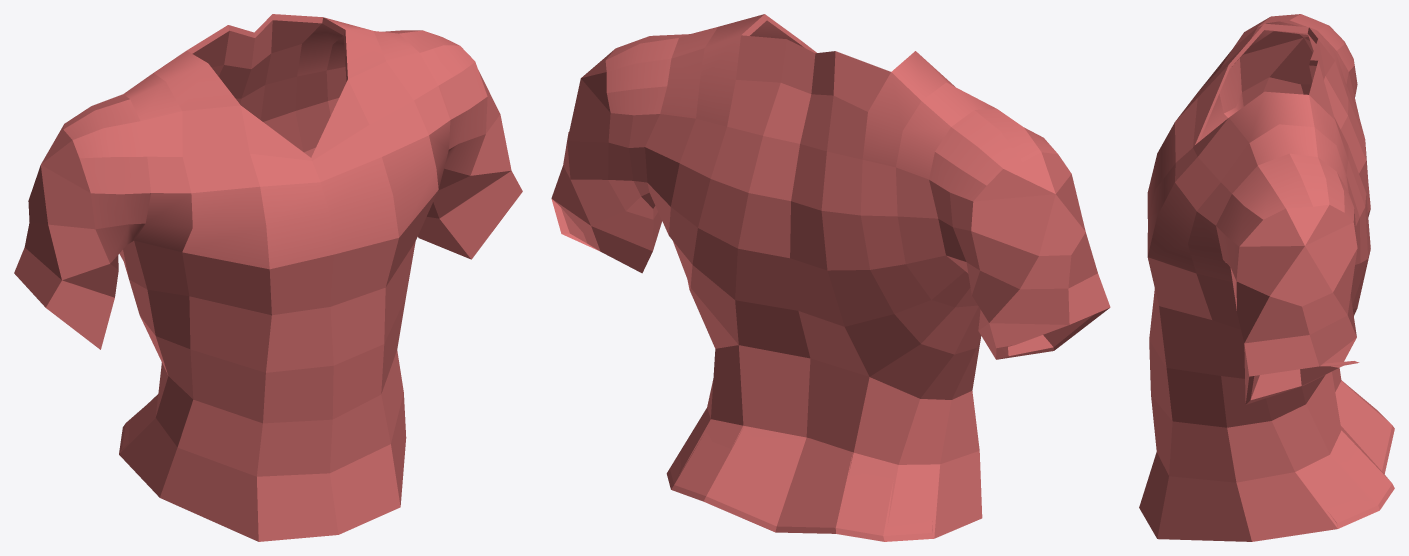
Rendered from shirt.fbx.
3 renders of one model, left to right at view 1: azimuth 30°, elevation 25°; view 2: azimuth 150°, elevation 25°; view 3: azimuth 270°, elevation 25°, orthographic. The views are drawn at different scales.
Visible parts, largest first — view 1: polySurface1; view 2: polySurface1; view 3: polySurface1.
Boxes of the visible parts, x1,y1,x2,y2 form: polySurface1: [14, 14, 522, 541]; polySurface1: [551, 14, 1110, 541]; polySurface1: [1139, 14, 1394, 541].
Size of the model in its own units: 1.59 by 1.43 by 0.7249.
